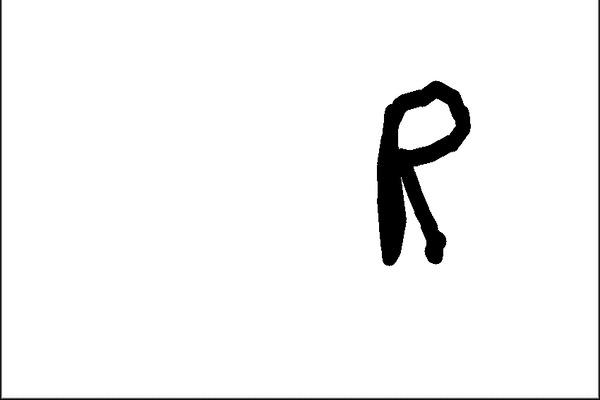R: (364, 68, 477, 273)
